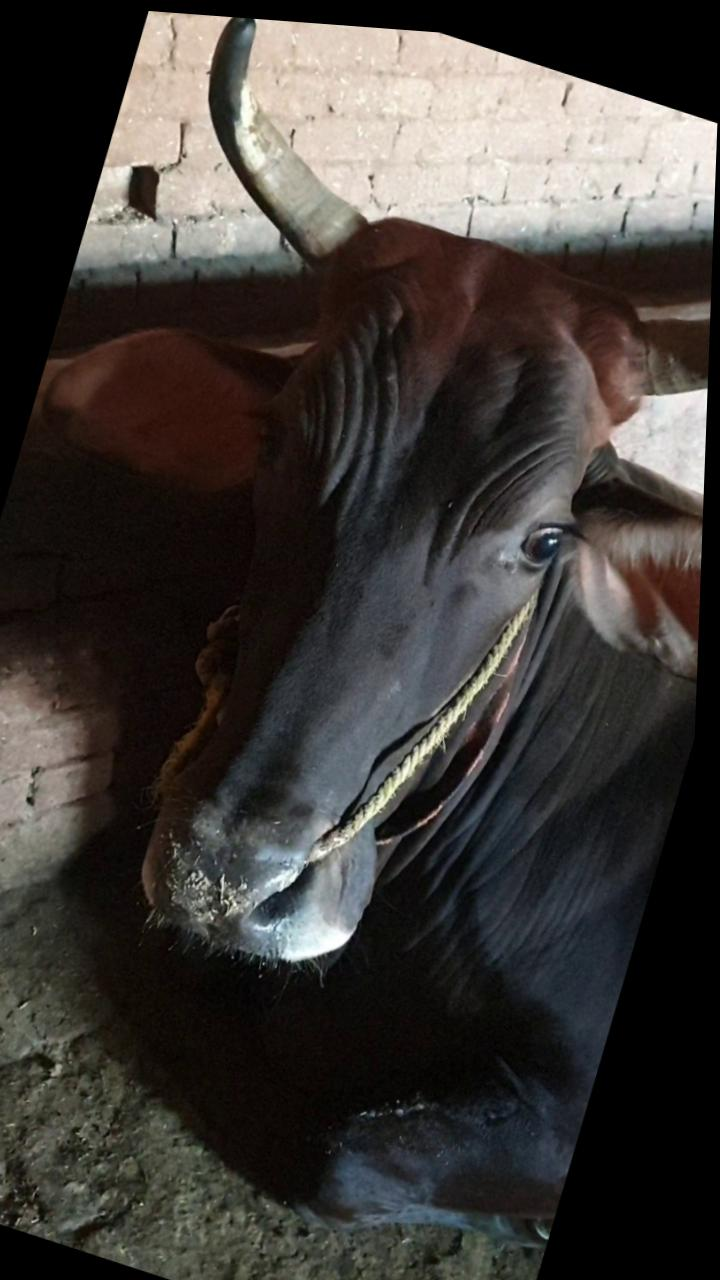cows: (124, 122, 694, 1045)
